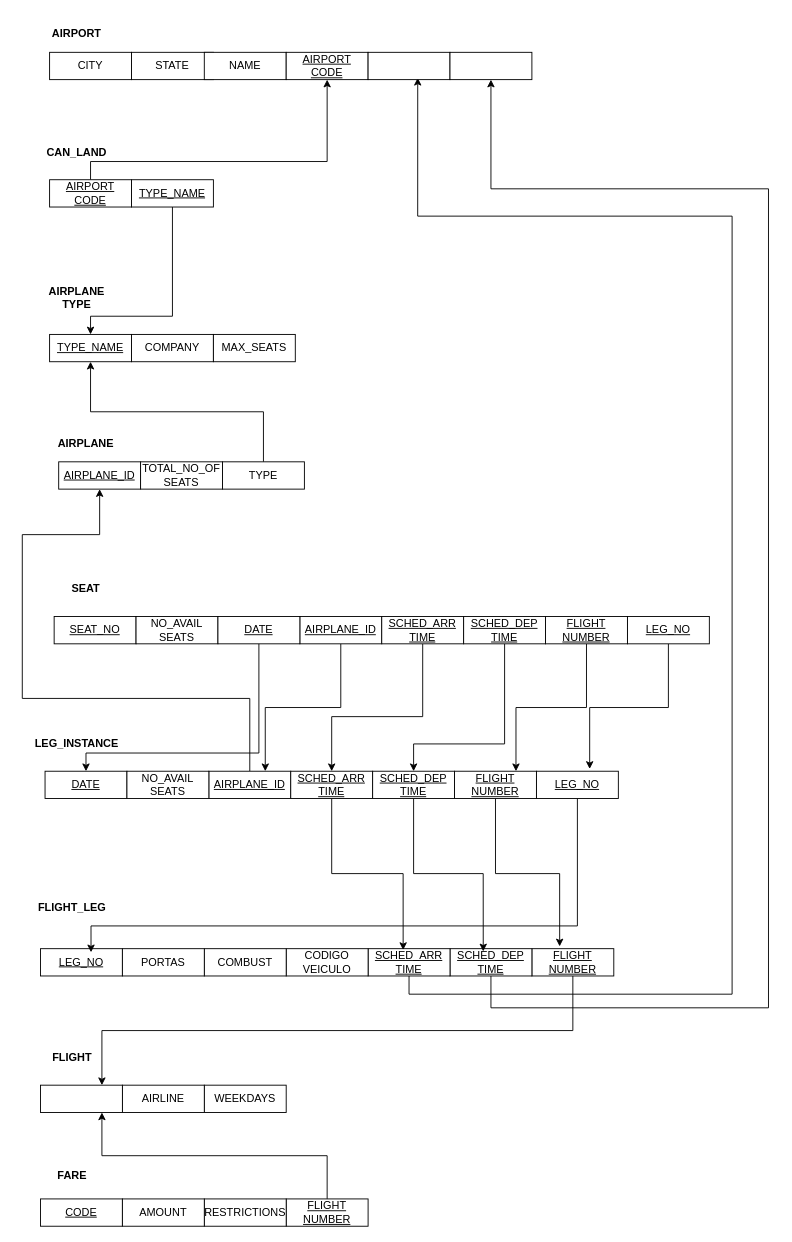
The diagram is 792 pixels wide and 1242 high, and some of its shapes have lost their labels. Each missing label, with the centre of its shape:
"ARR TIME" belongs at point (408, 65).
"DEP TIME" belongs at point (490, 65).
"NUMBER" belongs at point (81, 1098).
